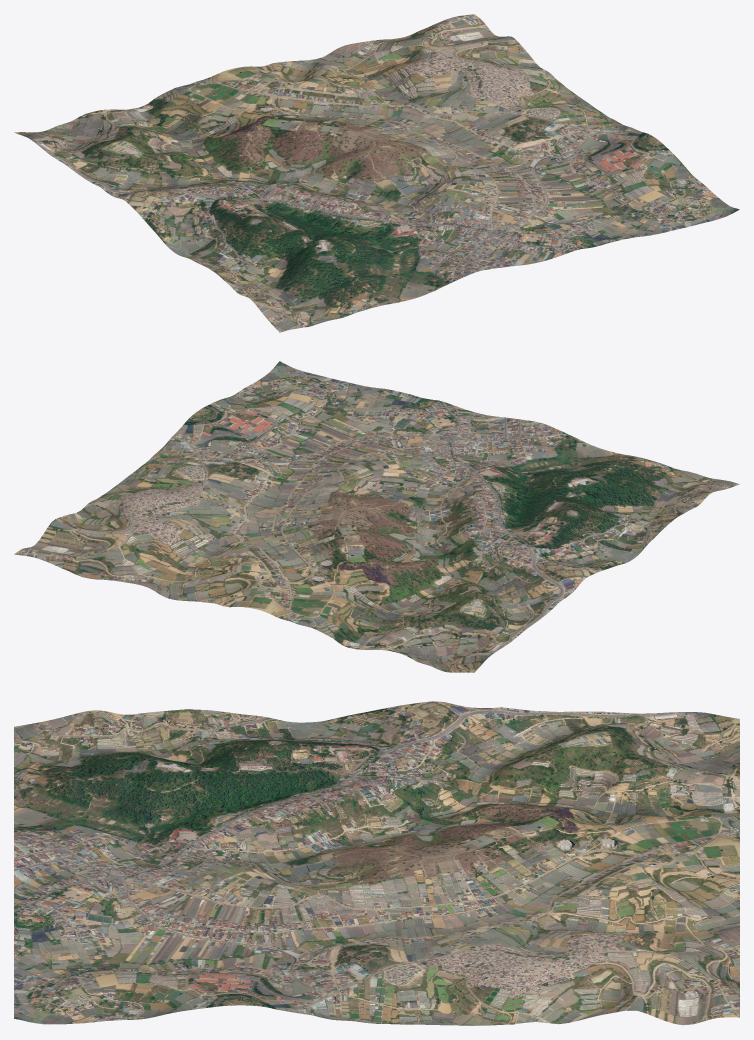
The model's file is terrain_real_T_W01_N02.glb.
3 views of the same model, one above another, from view 1: azimuth 30°, elevation 25°; view 2: azimuth 150°, elevation 25°; view 3: azimuth 270°, elevation 25° (orthographic). The views are drawn at different scales.
Parts seen in each view (by area): view 1: TerrainReal_T_W01_N02; view 2: TerrainReal_T_W01_N02; view 3: TerrainReal_T_W01_N02.
Boxes of the visible parts, left/top/right/bottom form: TerrainReal_T_W01_N02: left=14, top=14, right=739, bottom=332; TerrainReal_T_W01_N02: left=14, top=361, right=739, bottom=672; TerrainReal_T_W01_N02: left=14, top=701, right=739, bottom=1025.
Bounding box in the file's own units: 2000 × 109 × 2000.
Materials: 1 (1 with a texture image).
